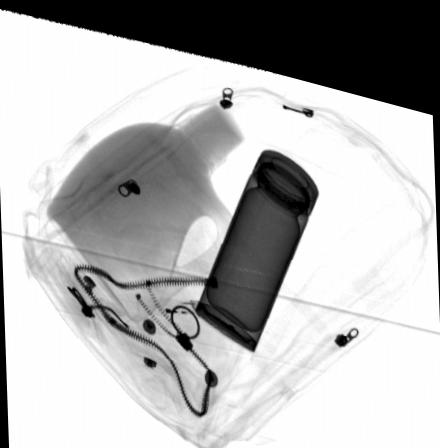Lighter: (135, 286, 205, 304)
